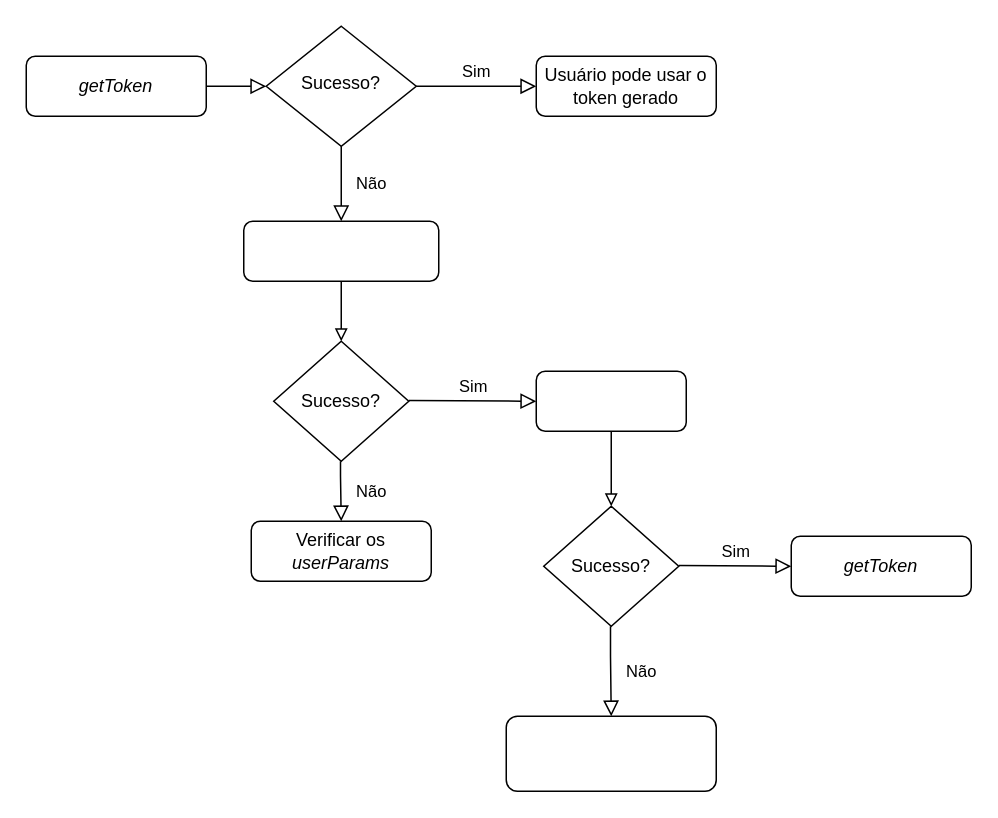
The diagram is 998 pixels wide and 818 high, and some of its shapes have lost their labels. The shapes that lost their labels are listed below. From the top down, each one's centre as x and y in pixels, then its label:
At (x=340, y=250): "requestAuthorization".
At (x=610, y=400): "Authorize".
At (x=610, y=753): "Verificar os userParams ou Conexão com a Internet".
